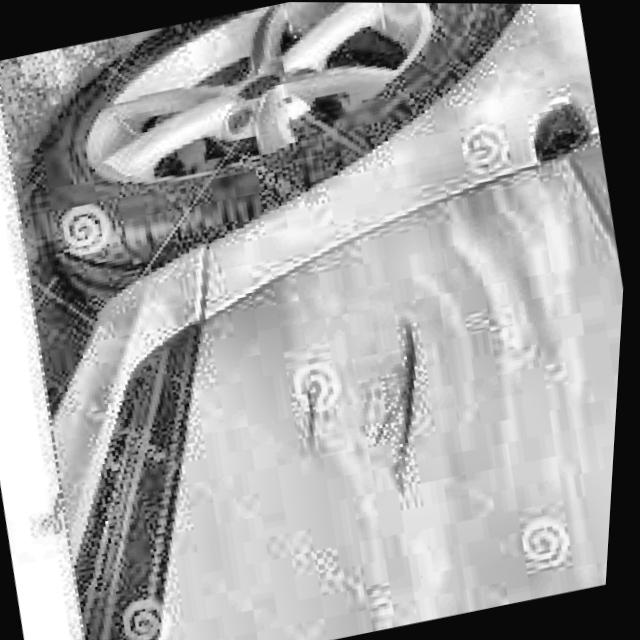door_scratch: (340, 317, 460, 506), (287, 376, 332, 455)
